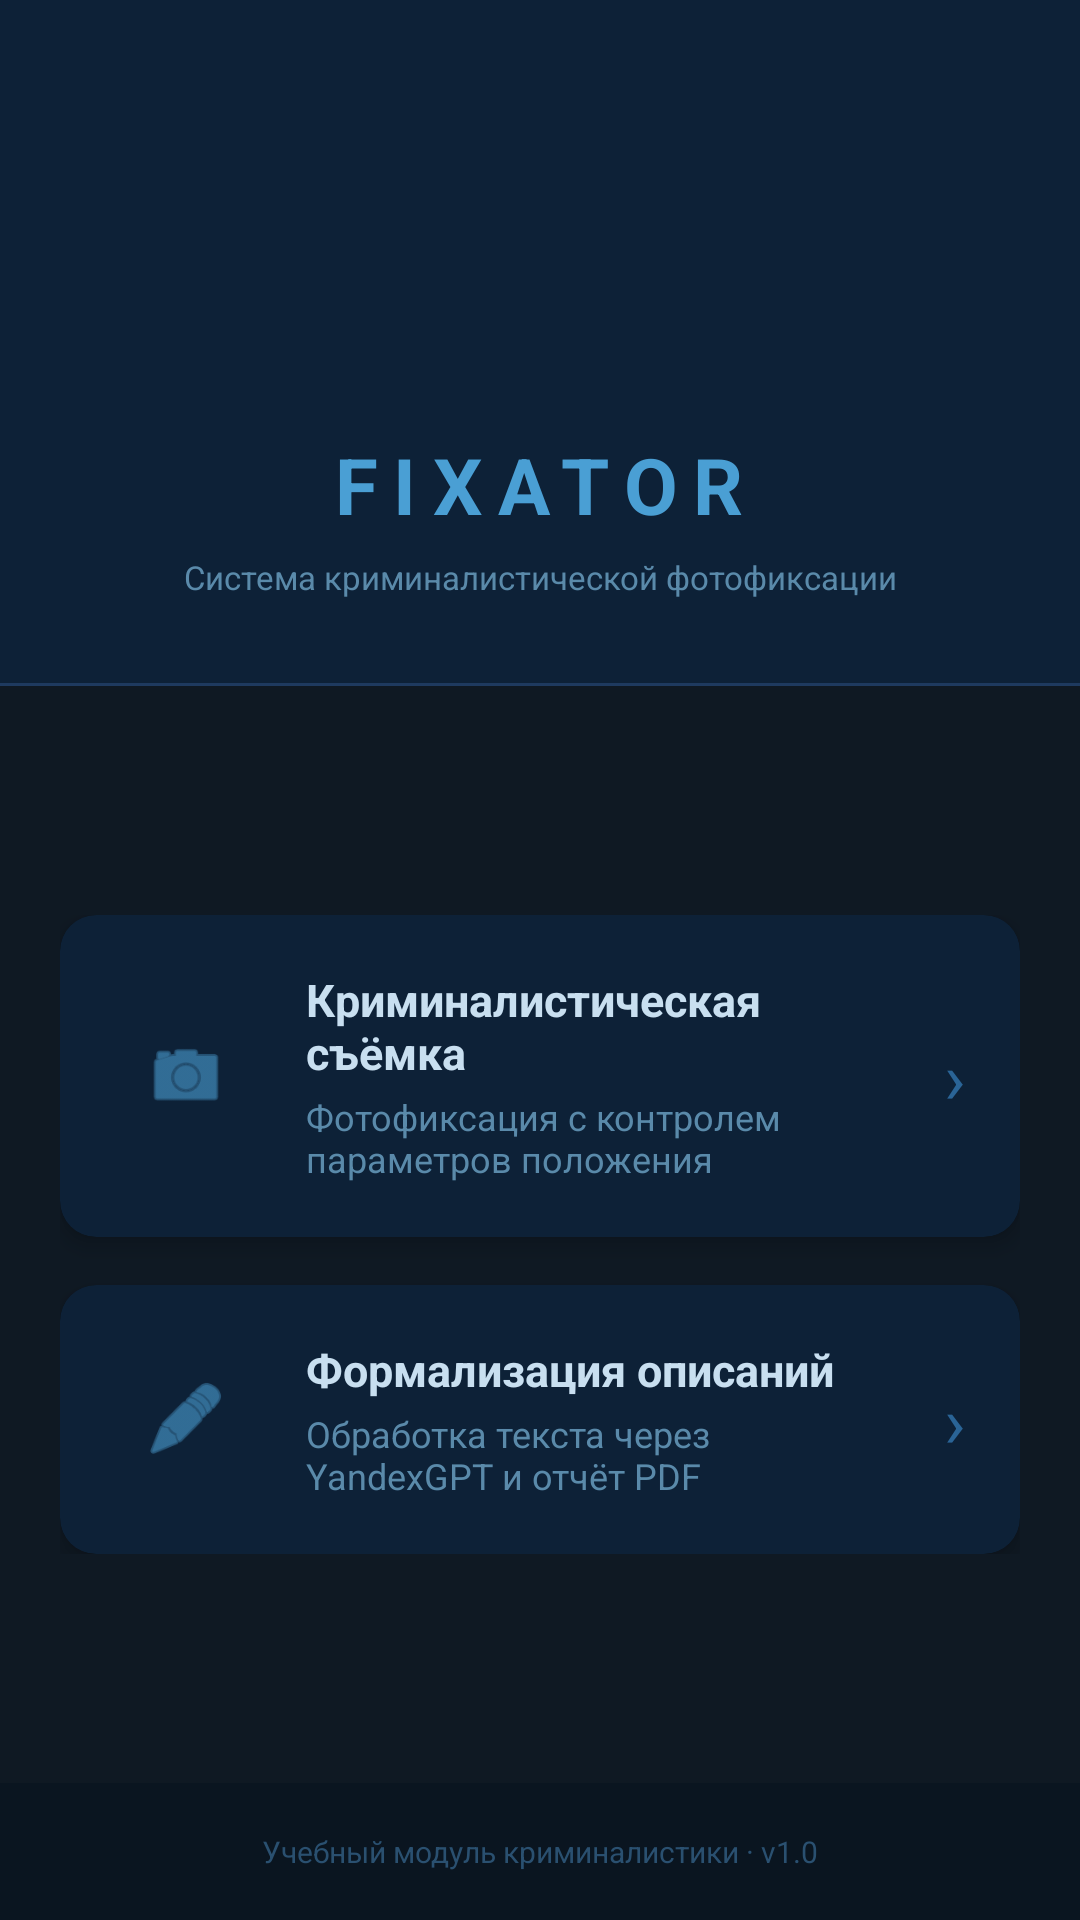

Screen size 1080*1920. Icon name, then its box in pixels as (x1, y1, x2, y2):
Камера: (154, 1049, 218, 1100)
